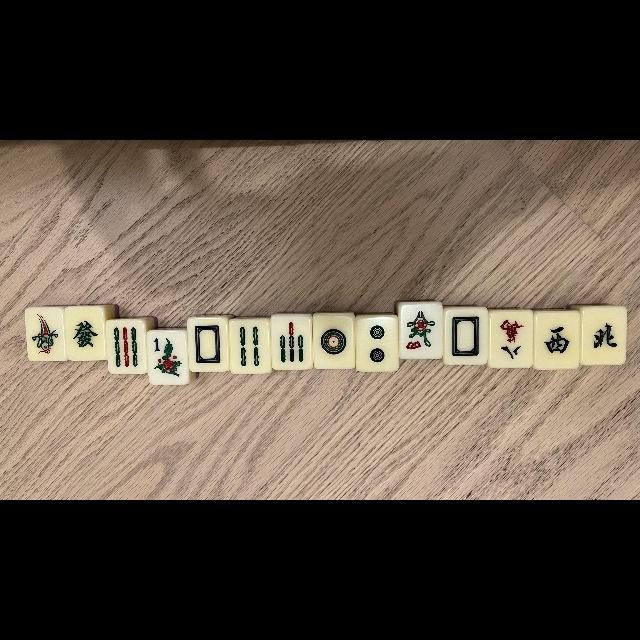b1: (27, 308, 65, 360)
b4: (230, 322, 268, 372)
b7: (272, 316, 312, 368)
b9: (108, 321, 144, 374)
c8: (490, 312, 532, 366)
d1: (314, 316, 354, 366)
d2: (357, 316, 398, 370)
dg: (66, 307, 104, 359)
dw: (446, 310, 486, 364), (189, 319, 227, 371)
f1-s: (148, 331, 186, 384)
s4-s: (401, 304, 442, 358)
wn: (582, 308, 624, 362)
ww: (536, 312, 578, 368)
